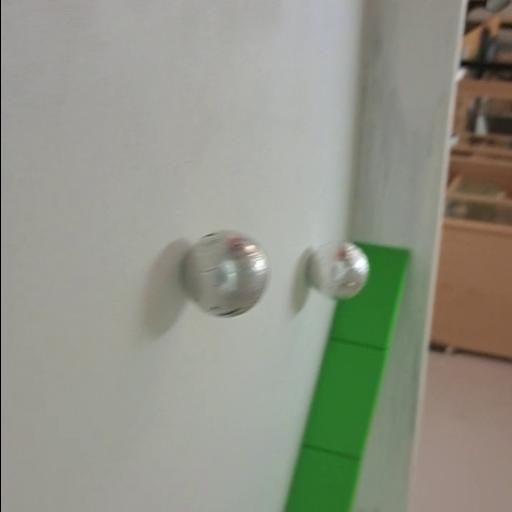alive: (180, 229, 268, 317), (306, 242, 369, 300)
